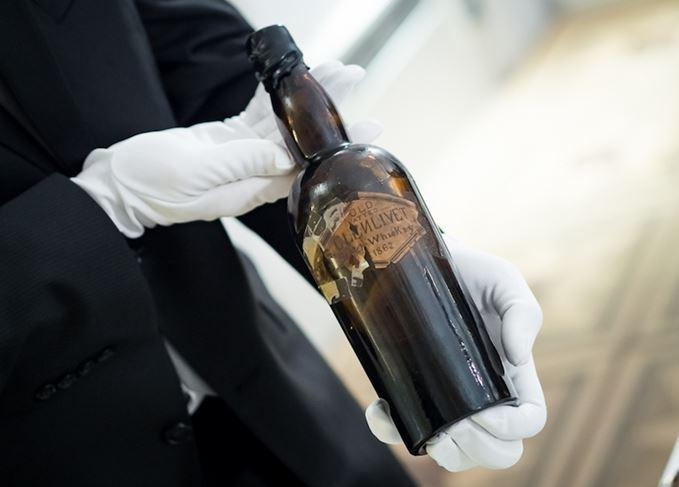glass: (247, 31, 521, 452)
